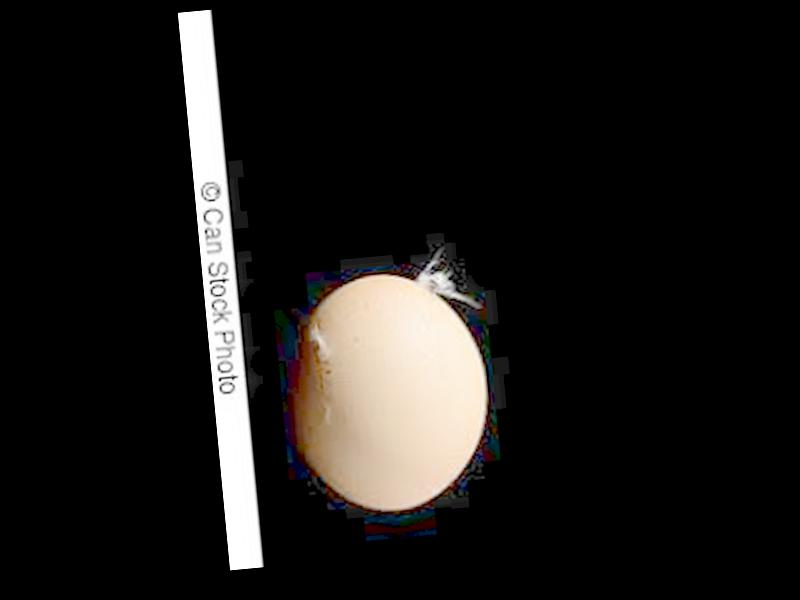Eggs: (280, 266, 494, 519)
